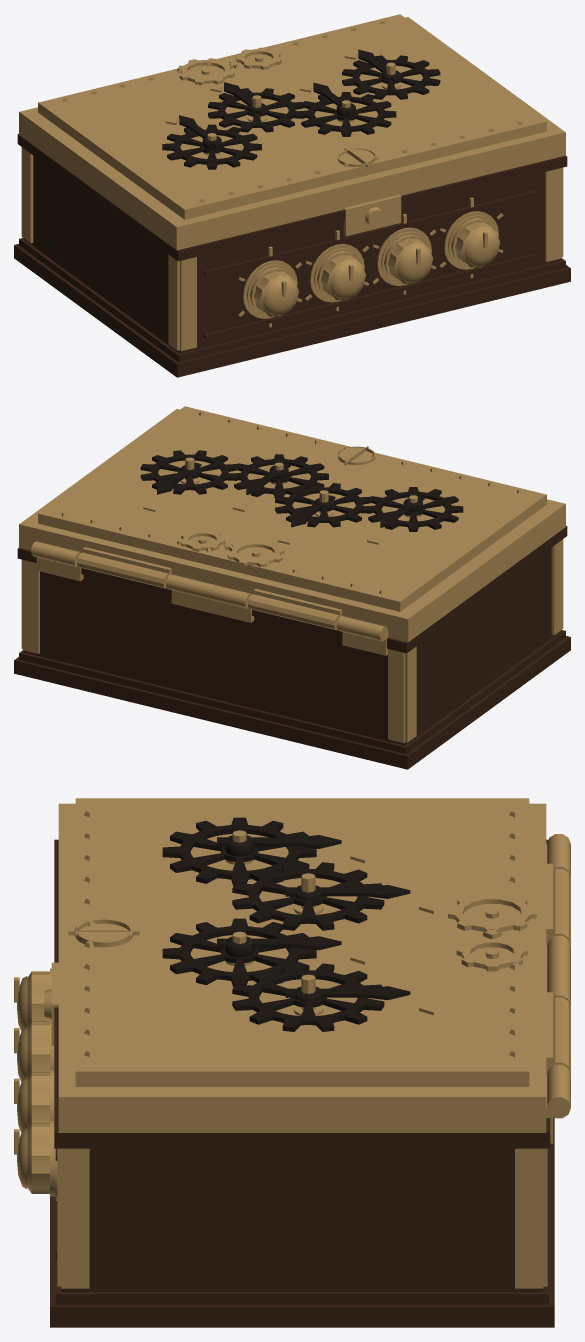
File: strand_box4.glb
The picture shows the model from 3 angles, top to bottom: view 1: azimuth 30°, elevation 25°; view 2: azimuth 150°, elevation 25°; view 3: azimuth 270°, elevation 25°; orthographic projection. The views are drawn at different scales.
Parts seen in each view (by area): view 1: IA_box_lid, strand_box4, gear_pointer_1, gear_pointer_4, gear_pointer_2, gear_pointer_3, IA_knob_4, IA_knob_2, IA_knob_1, IA_knob_3; view 2: strand_box4, IA_box_lid, gear_pointer_2, gear_pointer_4, gear_pointer_1, gear_pointer_3; view 3: IA_box_lid, strand_box4, gear_pointer_2, gear_pointer_4, gear_pointer_3, gear_pointer_1, IA_knob_4, IA_knob_3, IA_knob_2, IA_knob_1.
Boxes of the visible parts, x1,y1,x2,y2 form: IA_box_lid: (19,14,565,250); strand_box4: (14,134,570,377); gear_pointer_1: (162,115,261,169); gear_pointer_4: (342,49,440,99); gear_pointer_2: (208,82,305,132); gear_pointer_3: (299,82,396,136); IA_knob_4: (451,218,500,267); IA_knob_2: (317,251,366,300); IA_knob_1: (250,267,298,316); IA_knob_3: (384,234,433,284); strand_box4: (14,526,570,769); IA_box_lid: (19,406,565,642); gear_pointer_2: (275,483,373,527); gear_pointer_4: (140,450,238,494); gear_pointer_1: (367,487,463,531); gear_pointer_3: (231,454,328,498); IA_box_lid: (44,798,570,1132); strand_box4: (50,834,570,1327); gear_pointer_2: (232,862,410,930); gear_pointer_4: (232,963,410,1031); gear_pointer_3: (162,918,341,987); gear_pointer_1: (162,817,341,886); IA_knob_4: (14,1120,55,1196); IA_knob_3: (14,1070,54,1132); IA_knob_2: (14,1019,54,1081); IA_knob_1: (14,968,51,1031).
Size of the model in its own units: 0.496 by 0.216 by 0.393.
